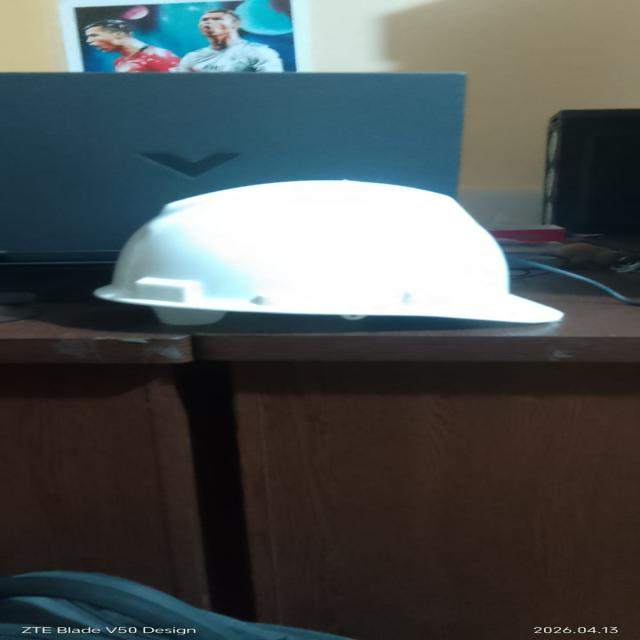casco: (92, 171, 576, 345)
